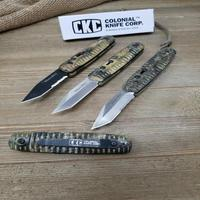knife: (21, 27, 178, 130)
